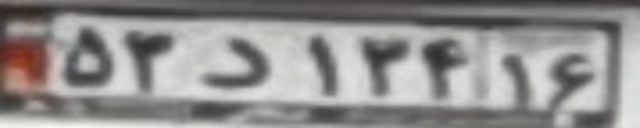1: (307, 36, 340, 96), (502, 51, 531, 109)
3: (359, 34, 414, 98), (127, 31, 174, 93)
4: (422, 37, 469, 99)
5: (62, 31, 119, 85)
6: (541, 49, 599, 109)
dal: (197, 36, 272, 89)
